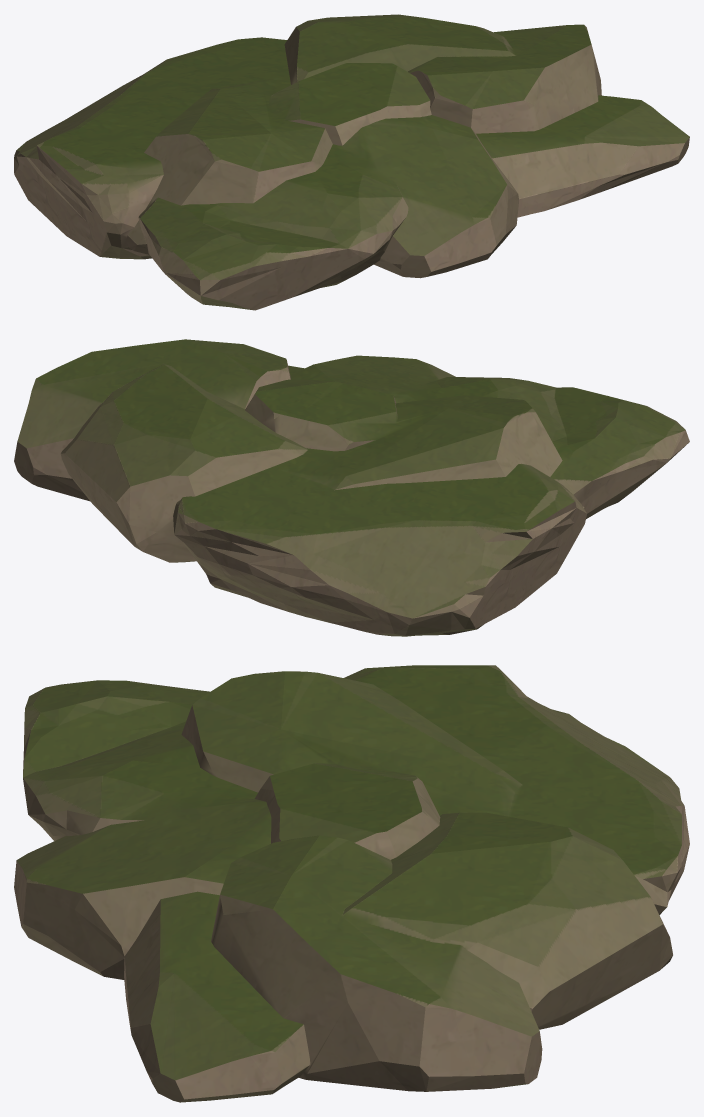
The model's file is SM_Env_Rock_Pile_01.glb.
3 views of the same model, one above another, from view 1: azimuth 30°, elevation 25°; view 2: azimuth 150°, elevation 25°; view 3: azimuth 270°, elevation 25° (orthographic). The views are drawn at different scales.
Parts seen in each view (by area): view 1: SM_Env_Rock_Pile_01; view 2: SM_Env_Rock_Pile_01; view 3: SM_Env_Rock_Pile_01.
Part boxes in pixels (bbox=[...]): SM_Env_Rock_Pile_01: bbox=[14, 14, 689, 310]; SM_Env_Rock_Pile_01: bbox=[14, 339, 689, 636]; SM_Env_Rock_Pile_01: bbox=[14, 665, 689, 1102].
Size of the model in its own units: 13.38 by 3.34 by 10.33.
Materials: 1 (1 with a texture image).
